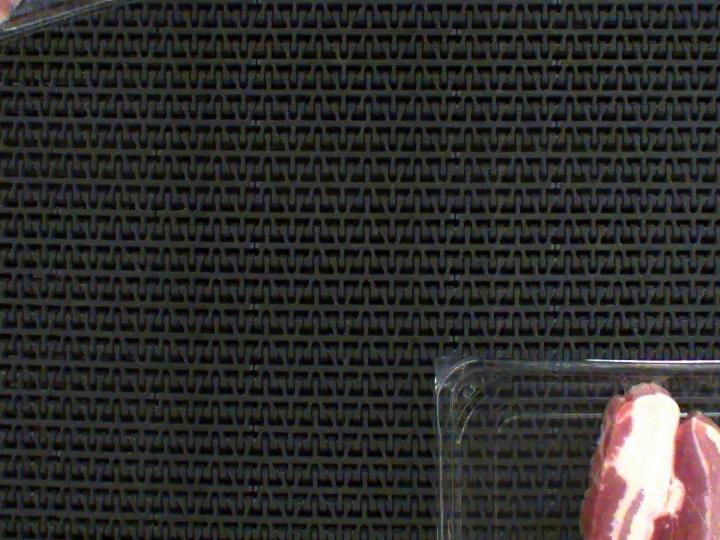packaging-error: (614, 368, 672, 396)
